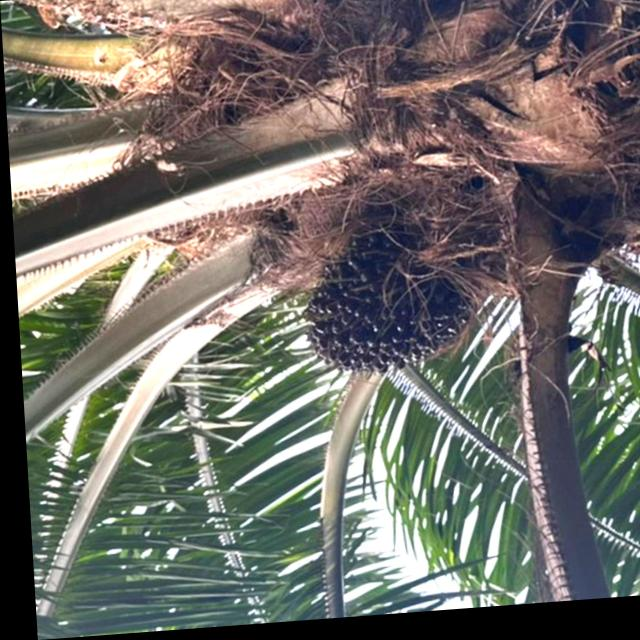almost: (289, 216, 468, 384)
